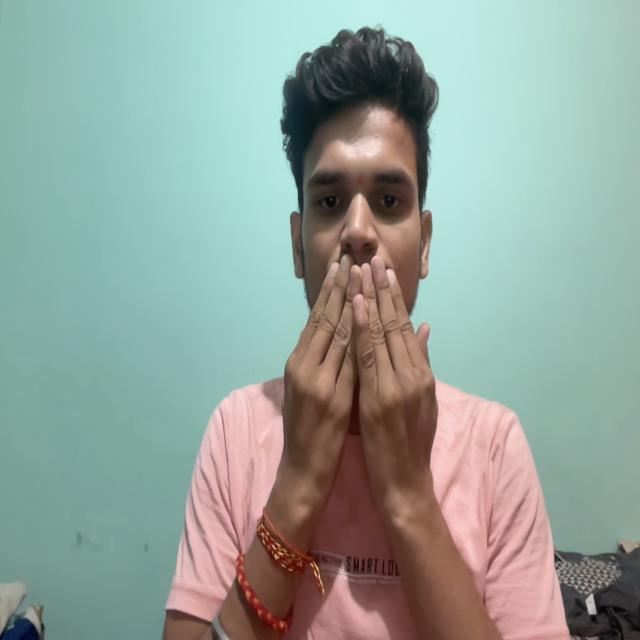Thanks: (268, 235, 459, 544)
